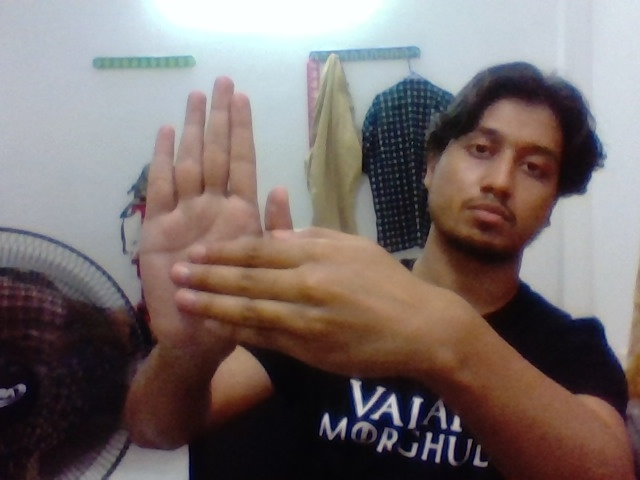H: (126, 71, 389, 365)
